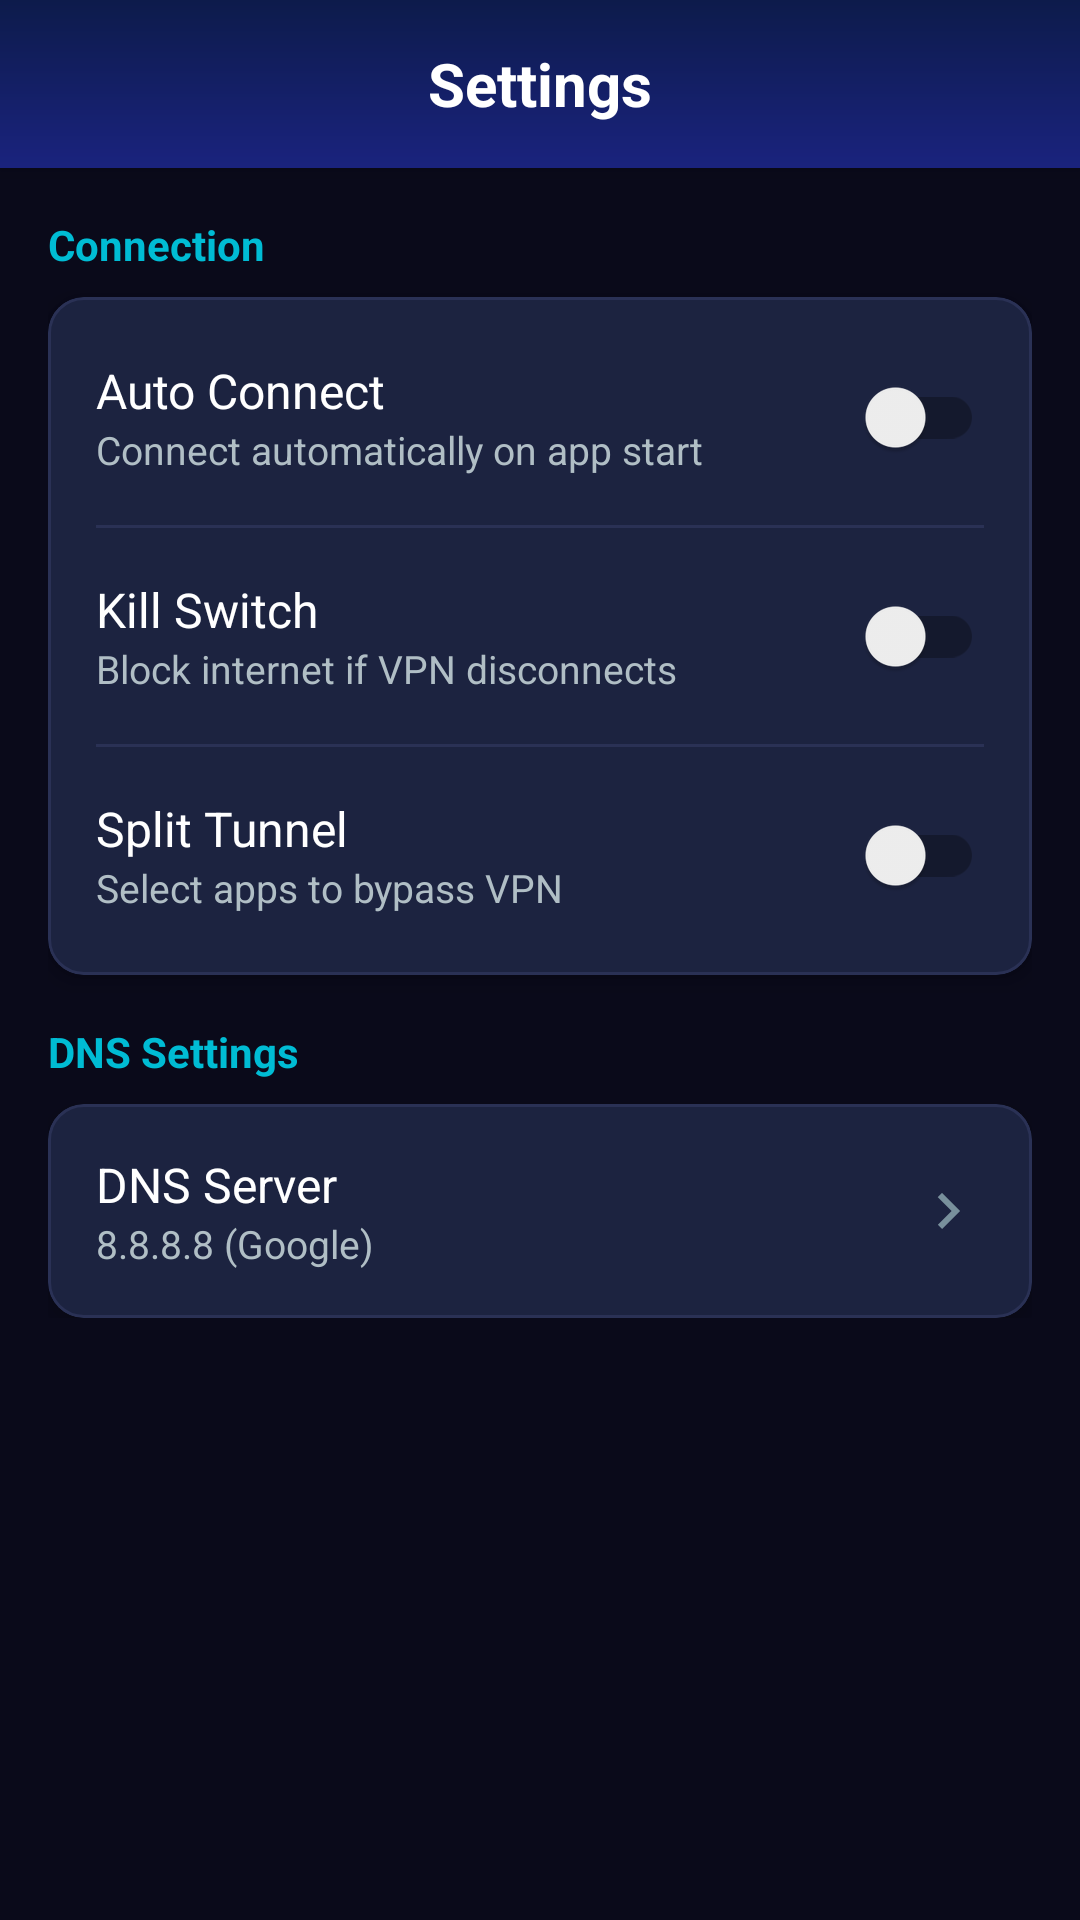

Icon click points for this 1080*1920 phone screenshot, format (x=x, y=y):
arrow right: (x=949, y=1211)
